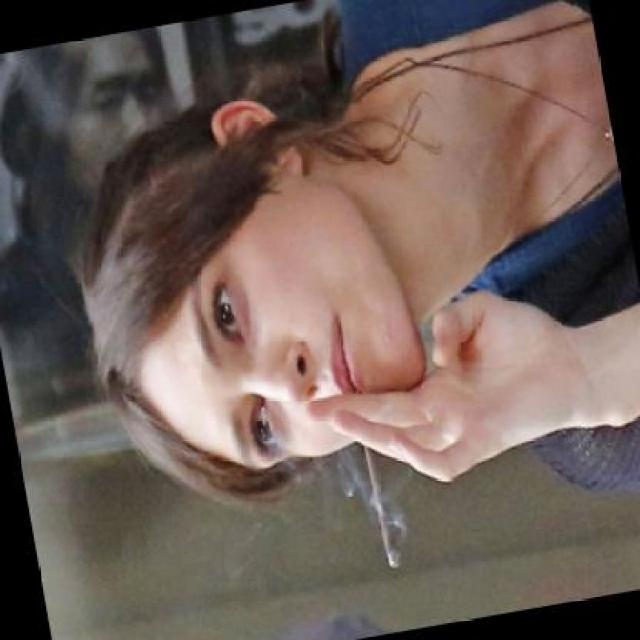cigarette: (354, 418, 406, 574)
